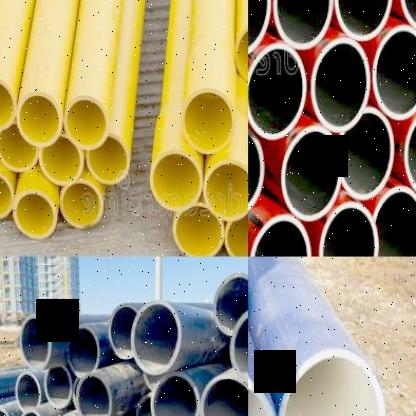pipe: (279, 348, 385, 416), (282, 126, 342, 221), (248, 43, 306, 140), (311, 38, 370, 132), (338, 108, 395, 200), (371, 25, 416, 119), (130, 300, 181, 375), (182, 88, 236, 153), (319, 200, 378, 256), (150, 150, 202, 212), (372, 185, 416, 256), (274, 0, 332, 49), (173, 202, 224, 257), (250, 214, 312, 257), (204, 160, 248, 220), (16, 91, 62, 147), (64, 96, 109, 150), (334, 0, 392, 40), (212, 272, 248, 336), (39, 133, 83, 185), (151, 371, 199, 416), (86, 134, 129, 184), (14, 190, 57, 240), (60, 181, 104, 228), (0, 123, 40, 172), (200, 376, 248, 416), (19, 314, 52, 370), (66, 324, 100, 378), (108, 303, 139, 358), (248, 122, 265, 218), (76, 372, 112, 416), (230, 305, 248, 388), (248, 0, 270, 57), (44, 366, 72, 409), (403, 106, 416, 198), (225, 210, 248, 257), (15, 371, 41, 412), (0, 76, 16, 129), (235, 21, 248, 85), (0, 171, 14, 220), (400, 0, 416, 33), (18, 408, 46, 416), (0, 406, 12, 416)
